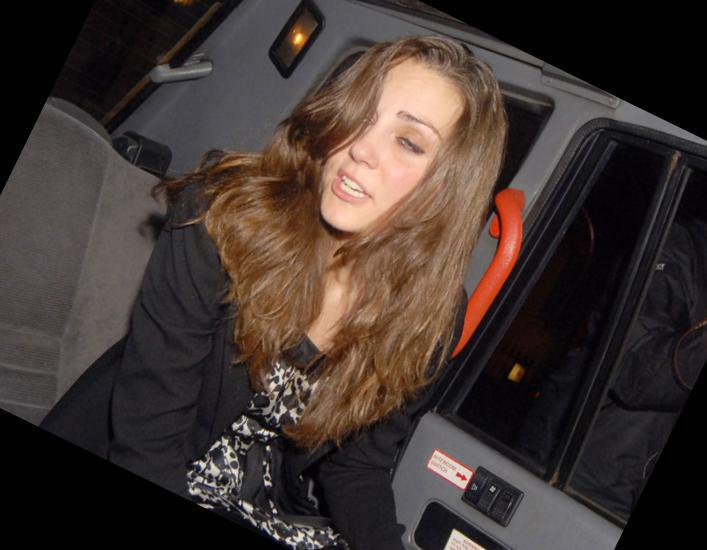Drunk: (328, 63, 455, 225)
